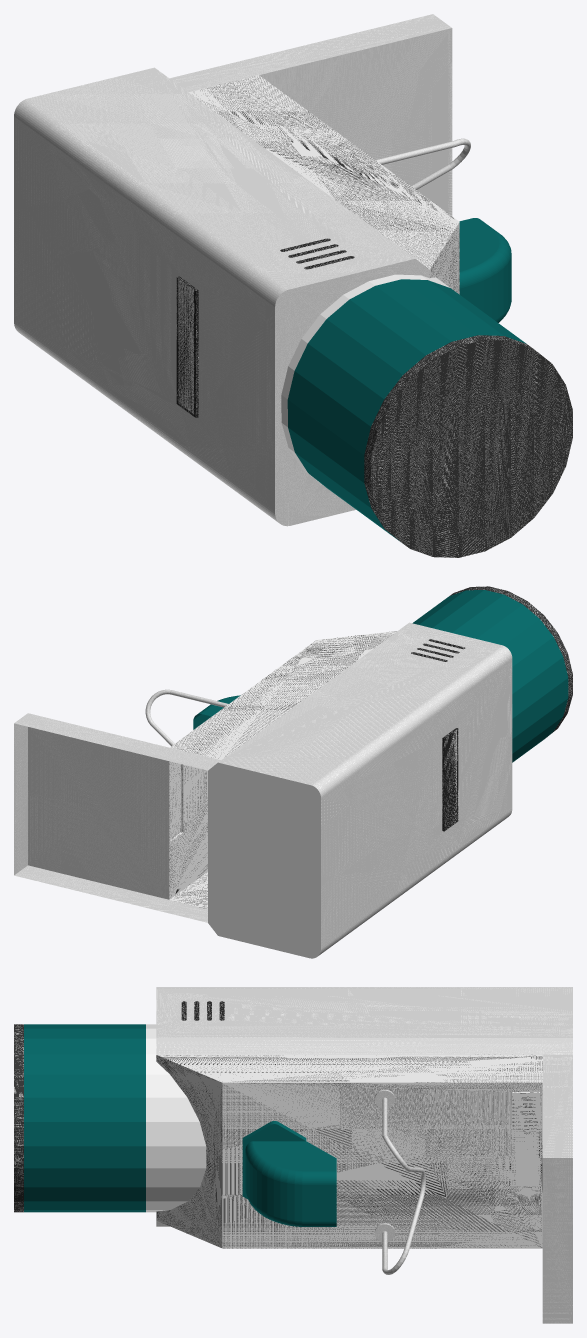
The picture shows the model from 3 angles, top to bottom: view 1: azimuth 30°, elevation 25°; view 2: azimuth 150°, elevation 25°; view 3: azimuth 270°, elevation 25°; orthographic projection. The views are drawn at different scales.
Visible parts, largest first — view 1: rancilio rocky coffee grinder; view 2: rancilio rocky coffee grinder; view 3: rancilio rocky coffee grinder.
Boxes of the visible parts, x1=… form: rancilio rocky coffee grinder: x1=14, y1=14, x2=572, y2=557; rancilio rocky coffee grinder: x1=14, y1=586, x2=572, y2=958; rancilio rocky coffee grinder: x1=14, y1=987, x2=572, y2=1323.
Size of the model in its own units: 9.56 by 5.13 by 13.75.
